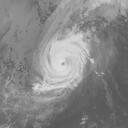cyclone: (34, 36, 89, 91)
